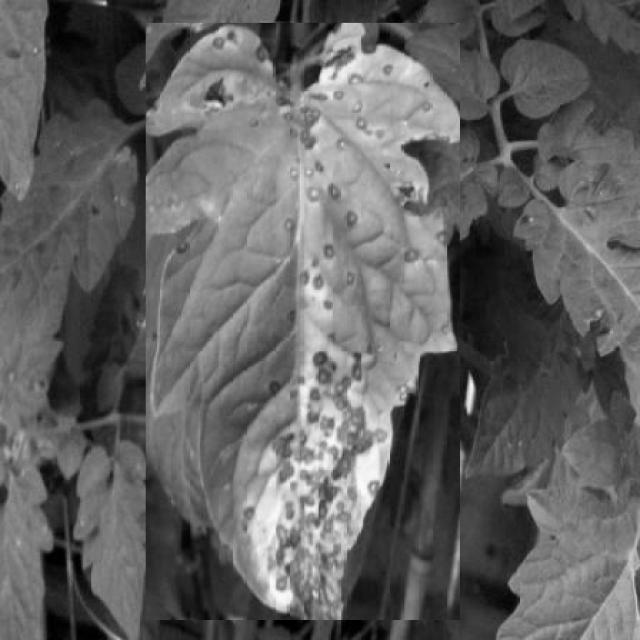Septoria: (146, 23, 460, 620)
